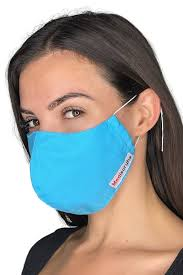FaceMask: (27, 117, 134, 214)
